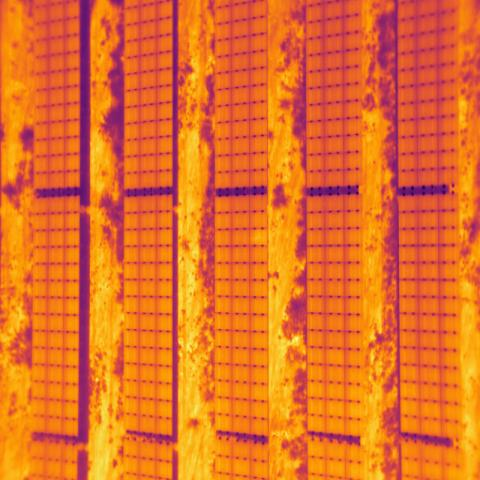fault: (250, 230, 268, 248)
